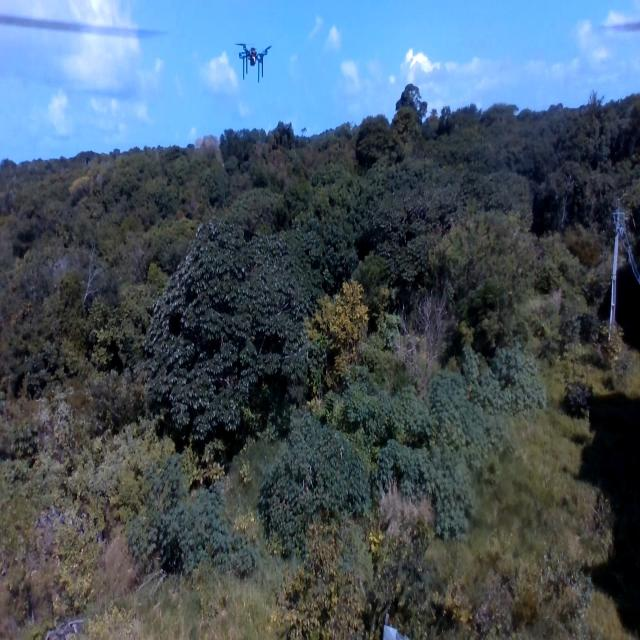-uav-: (229, 34, 275, 85)
